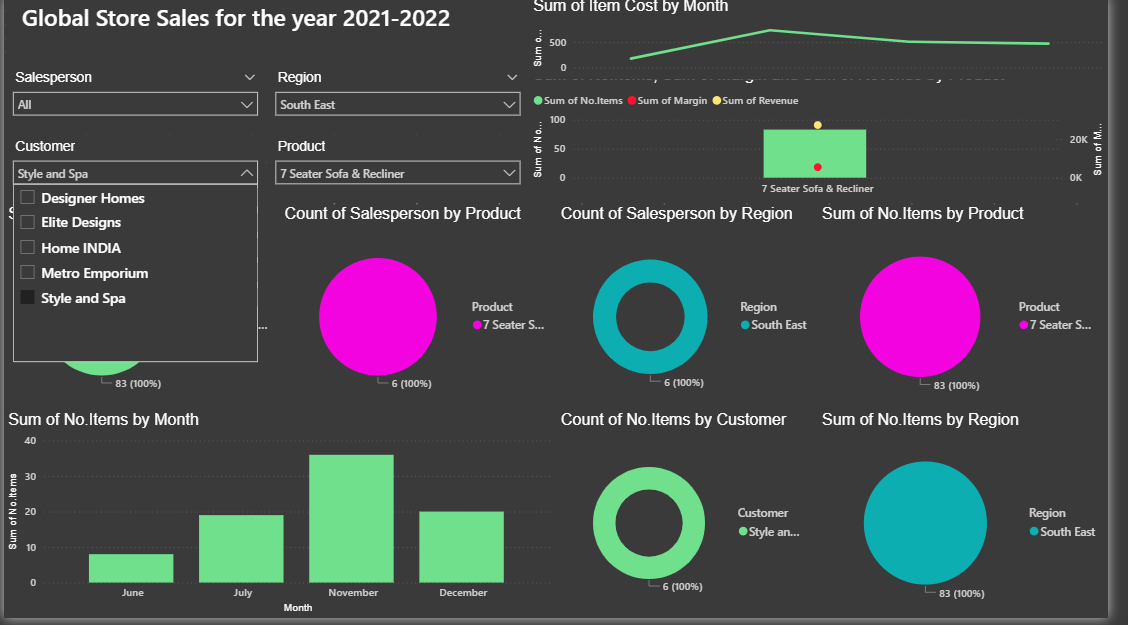

Layout of this report page (visuals, bound fields, positions):
{"tool":"powerbi","page":{"name":"Page 1","canvas":[1280,720],"ordinal":0},"visuals":[{"type":"textbox","box":[16,0,560,80],"z":0},{"type":"donutChart","fields":{"Category":["Raw_Data.Customer"],"Y":["CountNonNull(Raw_Data.No.Items)"]},"box":[640,480,304,240],"z":1000},{"type":"pieChart","fields":{"Category":["Raw_Data.Region"],"Y":["Sum(Raw_Data.No.Items)"]},"box":[944,480,336,240],"z":2000},{"type":"donutChart","fields":{"Category":["Raw_Data.Customer"],"Y":["Sum(Raw_Data.No.Items)"]},"box":[0,240,320,240],"z":3000},{"type":"pieChart","fields":{"Category":["Raw_Data.Product"],"Y":["Sum(Raw_Data.No.Items)"]},"box":[944,240,336,240],"z":4000},{"type":"donutChart","fields":{"Category":["Raw_Data.Region"],"Y":["CountNonNull(Raw_Data.Salesperson)"]},"box":[640,240,304,240],"z":5000},{"type":"slicer","fields":{"Values":["Raw_Data.Product"]},"box":[304,160,304,80],"z":7000},{"type":"slicer","fields":{"Values":["Raw_Data.Customer"]},"box":[0,160,304,80],"z":8000},{"type":"slicer","fields":{"Values":["Raw_Data.Salesperson"]},"box":[0,80,304,80],"z":9000},{"type":"slicer","fields":{"Values":["Raw_Data.Region"]},"box":[304,80,304,80],"z":10000},{"type":"lineClusteredColumnComboChart","fields":{"Category":["Raw_Data.Product"],"Y":["Sum(Raw_Data.No.Items)"],"Y2":["Sum(Raw_Data.Margin)","Sum(Raw_Data.Revenue)"]},"box":[608,80,672,160],"z":11000},{"type":"pieChart","fields":{"Y":["CountNonNull(Raw_Data.Salesperson)"],"Category":["Raw_Data.Product"]},"box":[320,240,320,240],"z":12000},{"type":"lineChart","fields":{"Category":["Raw_Data.Date.Variation.Date Hierarchy.Month"],"Y":["Sum(Raw_Data.Item Cost)"]},"box":[608,0,672,96],"z":13000},{"type":"clusteredColumnChart","fields":{"Category":["Raw_Data.Date.Variation.Date Hierarchy.Month"],"Y":["Sum(Raw_Data.No.Items)"]},"box":[0,480,640,240],"z":14000}]}

Visuals, with their boxes in screenshot pixels (x1, y1, x2, y2), scaled from the page's 1280x720 canvas onto the 1128x625 screenshot:
textbox: left=14, top=0, right=508, bottom=69
donutChart - Raw_Data.Customer x CountNonNull(Raw_Data.No.Items): left=564, top=417, right=832, bottom=624
pieChart - Raw_Data.Region x Sum(Raw_Data.No.Items): left=832, top=417, right=1127, bottom=624
donutChart - Raw_Data.Customer x Sum(Raw_Data.No.Items): left=0, top=208, right=282, bottom=417
pieChart - Raw_Data.Product x Sum(Raw_Data.No.Items): left=832, top=208, right=1127, bottom=417
donutChart - Raw_Data.Region x CountNonNull(Raw_Data.Salesperson): left=564, top=208, right=832, bottom=417
slicer - Raw_Data.Product: left=268, top=139, right=536, bottom=208
slicer - Raw_Data.Customer: left=0, top=139, right=268, bottom=208
slicer - Raw_Data.Salesperson: left=0, top=69, right=268, bottom=139
slicer - Raw_Data.Region: left=268, top=69, right=536, bottom=139
lineClusteredColumnComboChart - Raw_Data.Product x Sum(Raw_Data.No.Items): left=536, top=69, right=1127, bottom=208
pieChart - CountNonNull(Raw_Data.Salesperson) x Raw_Data.Product: left=282, top=208, right=564, bottom=417
lineChart - Raw_Data.Date.Variation.Date Hierarchy.Month x Sum(Raw_Data.Item Cost): left=536, top=0, right=1127, bottom=83
clusteredColumnChart - Raw_Data.Date.Variation.Date Hierarchy.Month x Sum(Raw_Data.No.Items): left=0, top=417, right=564, bottom=624
